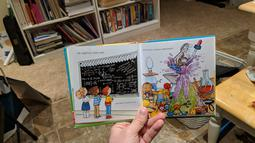text block: (74, 49, 107, 56), (141, 46, 173, 51), (113, 99, 138, 105)
